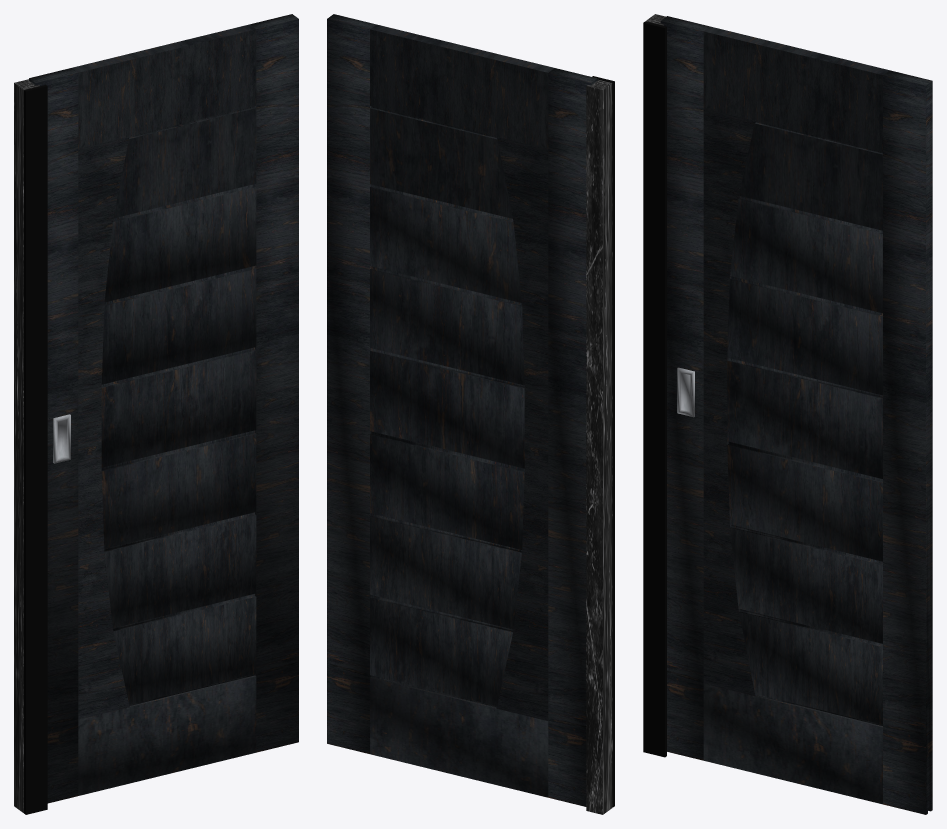
The model's file is slide_door.glb.
3 views of the same model, side by side, from view 1: azimuth 30°, elevation 25°; view 2: azimuth 150°, elevation 25°; view 3: azimuth 330°, elevation 25° (orthographic).
Visible parts, largest first — view 1: Cube.016, HANDLE, Cube.002, Sliding door kit-600, Cube.003, Cube.017, Cube.024, Cube.020, Cube.004, Cube.026, Cube.006, Cube.021 (+3 smaller); view 2: Cube.016, HANDLE, Cube.011, Cube.002, Cube.003, Cube.017, Cube.024, Cube.020, Cube.004, Cube.026, Cube.006, Cube.021 (+2 smaller); view 3: Cube.016, HANDLE, Cube.002, Sliding door kit-600, Cube.003, Cube.017, Cube.024, Cube.020, Cube.004, Cube.026, Cube.006, Cube.021 (+2 smaller).
Part boxes in pixels (box(x1,y1,x2,y2)): Cube.016: box(250, 14, 298, 752); HANDLE: box(29, 68, 78, 803); Cube.002: box(78, 136, 129, 719); Sliding door kit-600: box(24, 85, 47, 814); Cube.003: box(72, 24, 256, 148); Cube.017: box(78, 675, 256, 795); Cube.024: box(101, 347, 256, 467); Cube.020: box(101, 430, 256, 548); Cube.004: box(101, 266, 256, 384); Cube.026: box(104, 184, 256, 302); Cube.006: box(104, 512, 256, 628); Cube.021: box(113, 594, 256, 705); Cube.016: box(327, 14, 375, 753); HANDLE: box(548, 68, 597, 806); Cube.011: box(586, 79, 612, 814); Cube.002: box(496, 137, 548, 720); Cube.003: box(370, 24, 554, 149); Cube.017: box(370, 676, 548, 797); Cube.024: box(370, 348, 524, 468); Cube.020: box(370, 431, 524, 549); Cube.004: box(370, 266, 524, 385); Cube.026: box(370, 184, 521, 302); Cube.006: box(370, 513, 521, 629); Cube.021: box(370, 595, 513, 707); Cube.016: box(883, 70, 932, 814); HANDLE: box(660, 16, 709, 760); Cube.002: box(703, 108, 756, 696); Sliding door kit-600: box(643, 21, 666, 757); Cube.003: box(703, 26, 889, 151); Cube.017: box(703, 684, 882, 804); Cube.024: box(727, 358, 882, 478); Cube.020: box(727, 441, 882, 561); Cube.004: box(727, 276, 882, 395); Cube.026: box(730, 196, 882, 313); Cube.006: box(730, 525, 882, 643); Cube.021: box(739, 609, 882, 725).
Bounding box in the file's own units: 0.8408 × 2.11 × 0.063.
5 materials, 4 textured.
